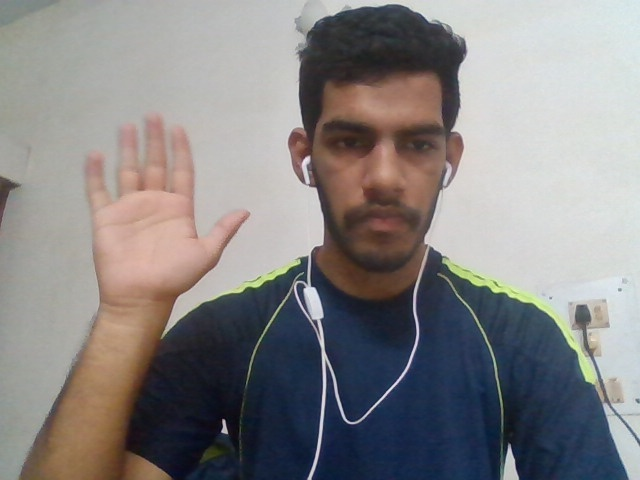hi: (57, 106, 256, 317)
